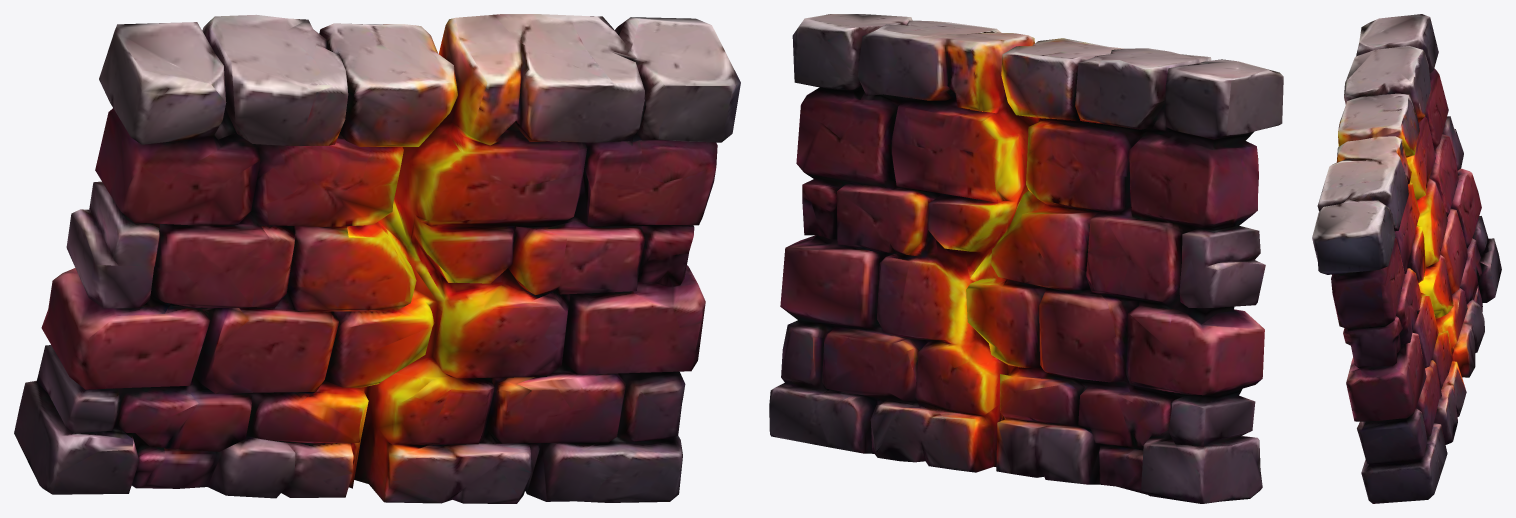
Rendered from GW_INT_breakable_wall.glb.
3 views of the same model, side by side, from view 1: azimuth 30°, elevation 25°; view 2: azimuth 150°, elevation 25°; view 3: azimuth 270°, elevation 25° (orthographic). The views are drawn at different scales.
Visible parts, largest first — view 1: tripo_node_13e58028-6202-4914-912d-03c9437de23a; view 2: tripo_node_13e58028-6202-4914-912d-03c9437de23a; view 3: tripo_node_13e58028-6202-4914-912d-03c9437de23a.
Part boxes in pixels (x1,y1,x2,y2): tripo_node_13e58028-6202-4914-912d-03c9437de23a: [14, 14, 740, 503]; tripo_node_13e58028-6202-4914-912d-03c9437de23a: [769, 14, 1283, 503]; tripo_node_13e58028-6202-4914-912d-03c9437de23a: [1312, 14, 1501, 503].
Size of the model in its own units: 1 by 0.8908 by 0.4514.
1 material, 1 textured.
